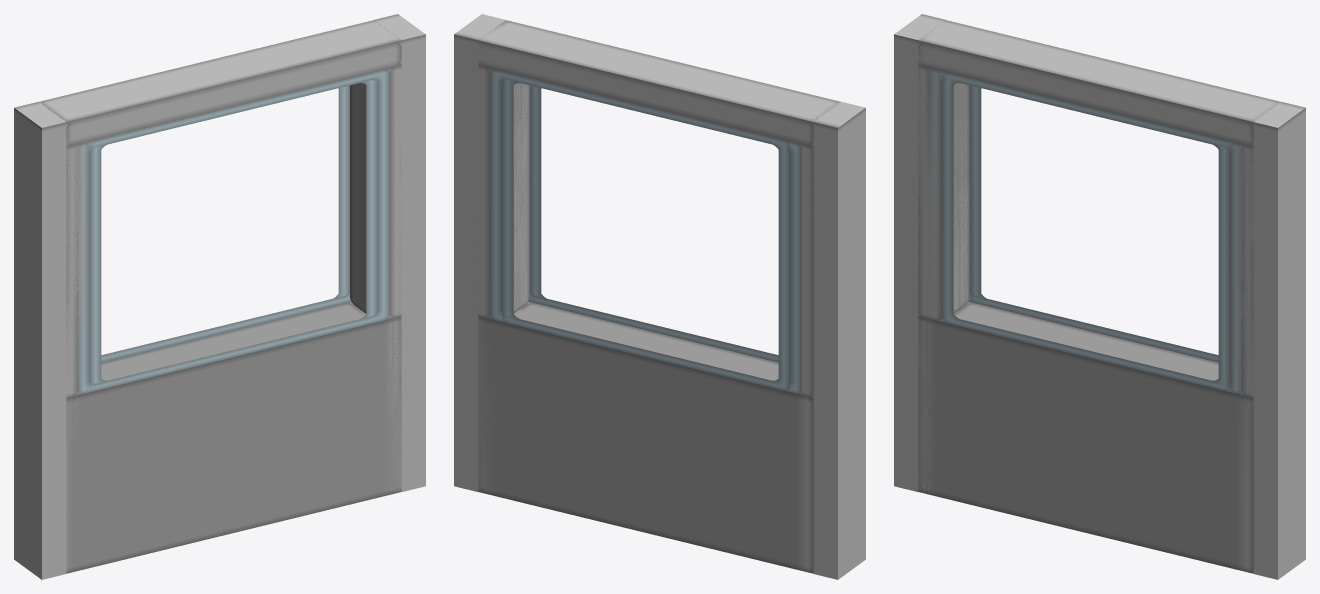
Rendered from drlduanmen.obj.
The picture shows the model from 3 angles, left to right: view 1: azimuth 30°, elevation 25°; view 2: azimuth 150°, elevation 25°; view 3: azimuth 330°, elevation 25°; orthographic projection.
Visible parts, largest first — view 1: door_left, door_right, main_right, main_left; view 2: door_right, door_left, main_right, main_left; view 3: door_left, door_right, main_left, main_right.
Boxes of the visible parts, <box> form: door_left: <box>39,40,401,573</box>; door_right: <box>41,20,401,562</box>; main_right: <box>14,102,66,579</box>; main_left: <box>374,14,425,491</box>; door_right: <box>478,20,837,572</box>; door_left: <box>478,21,840,573</box>; main_right: <box>813,102,865,579</box>; main_left: <box>454,14,505,491</box>; door_left: <box>918,20,1277,572</box>; door_right: <box>918,29,1280,573</box>; main_left: <box>1253,102,1305,579</box>; main_right: <box>894,14,945,491</box>.
Size of the model in its own units: 1 by 1.13 by 0.1256.
